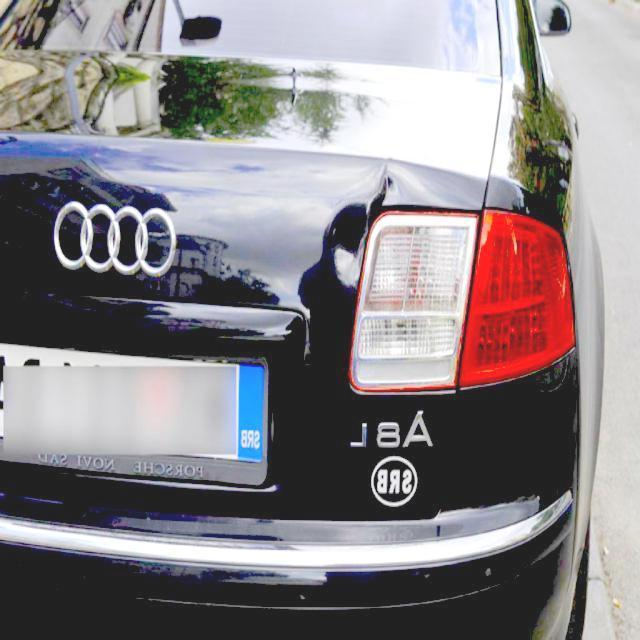minor: (296, 157, 410, 366)
